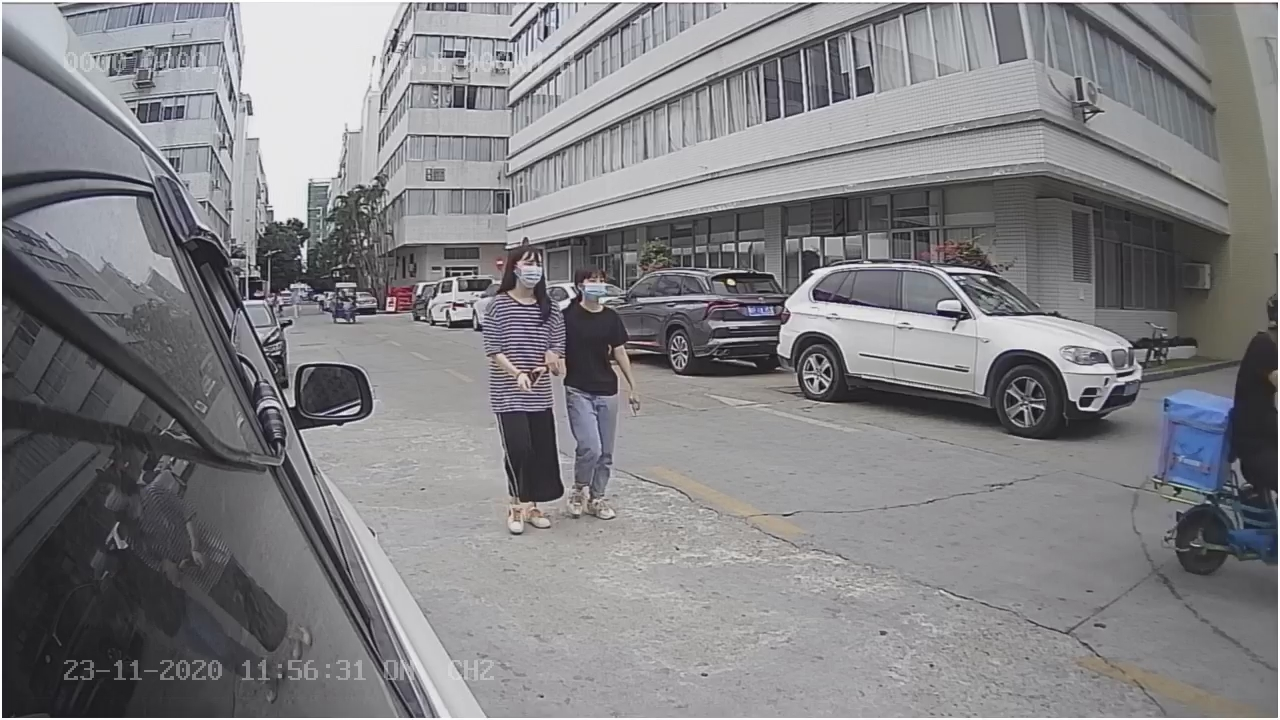person: (483, 241, 568, 536), (560, 268, 631, 521)
